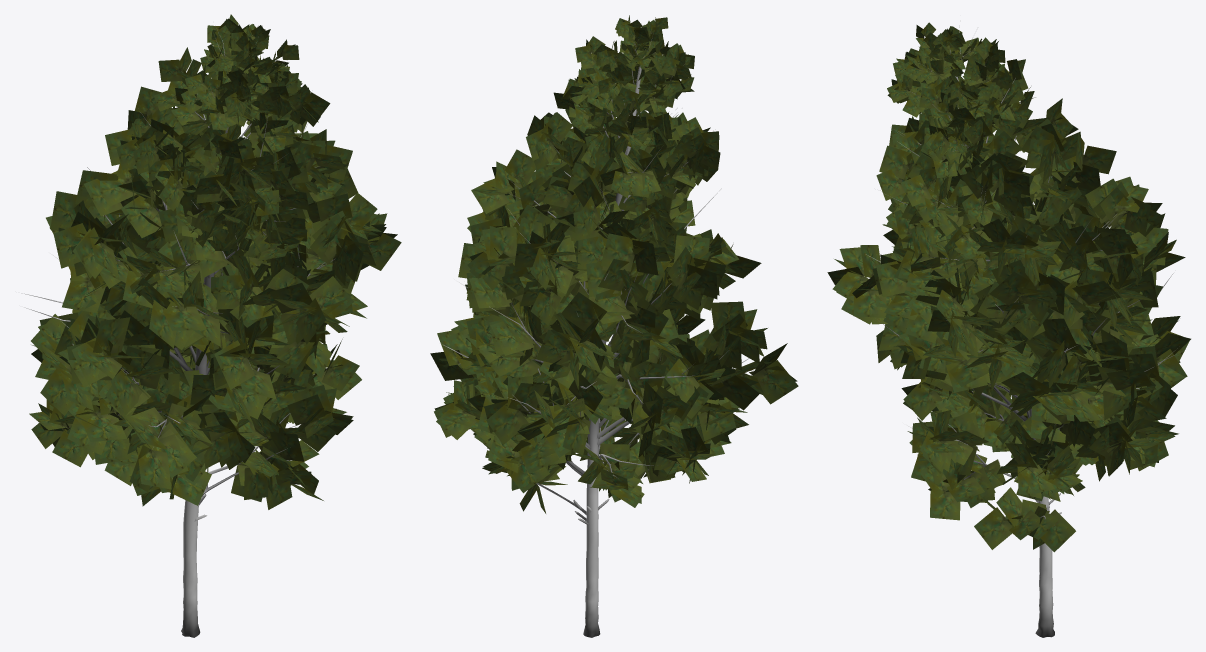
Rendered from RedAlder_Rand_mdl.fbx.
The picture shows the model from 3 angles, left to right: view 1: azimuth 30°, elevation 25°; view 2: azimuth 150°, elevation 25°; view 3: azimuth 270°, elevation 25°; orthographic projection. The views are drawn at different scales.
Visible parts, largest first — view 1: RedAlder_Rand_LOD0; view 2: RedAlder_Rand_LOD0; view 3: RedAlder_Rand_LOD0.
Boxes of the visible parts, <box> form: RedAlder_Rand_LOD0: <box>21,14,401,637</box>; RedAlder_Rand_LOD0: <box>430,15,798,637</box>; RedAlder_Rand_LOD0: <box>827,20,1190,637</box>.
Size of the model in its own units: 768 by 1443 by 782.
